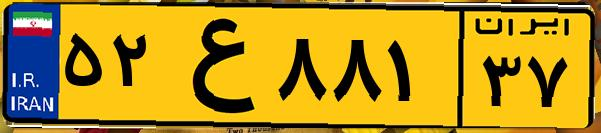1: (385, 28, 445, 110)
2: (110, 28, 158, 98)
3: (475, 38, 525, 113)
5: (57, 26, 110, 100)
7: (525, 38, 570, 115)
8: (270, 28, 330, 110), (330, 28, 385, 110)
ع: (158, 12, 270, 120)
